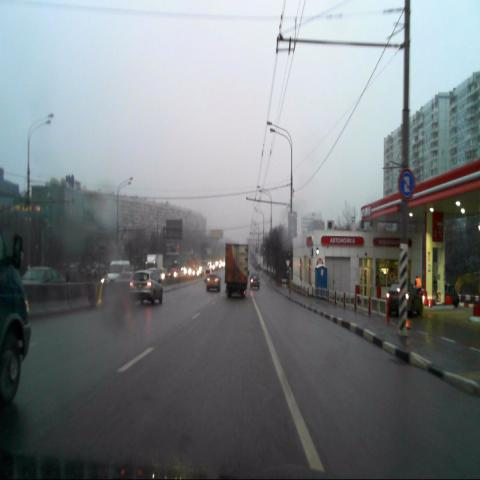3_30: (398, 168, 415, 199)
